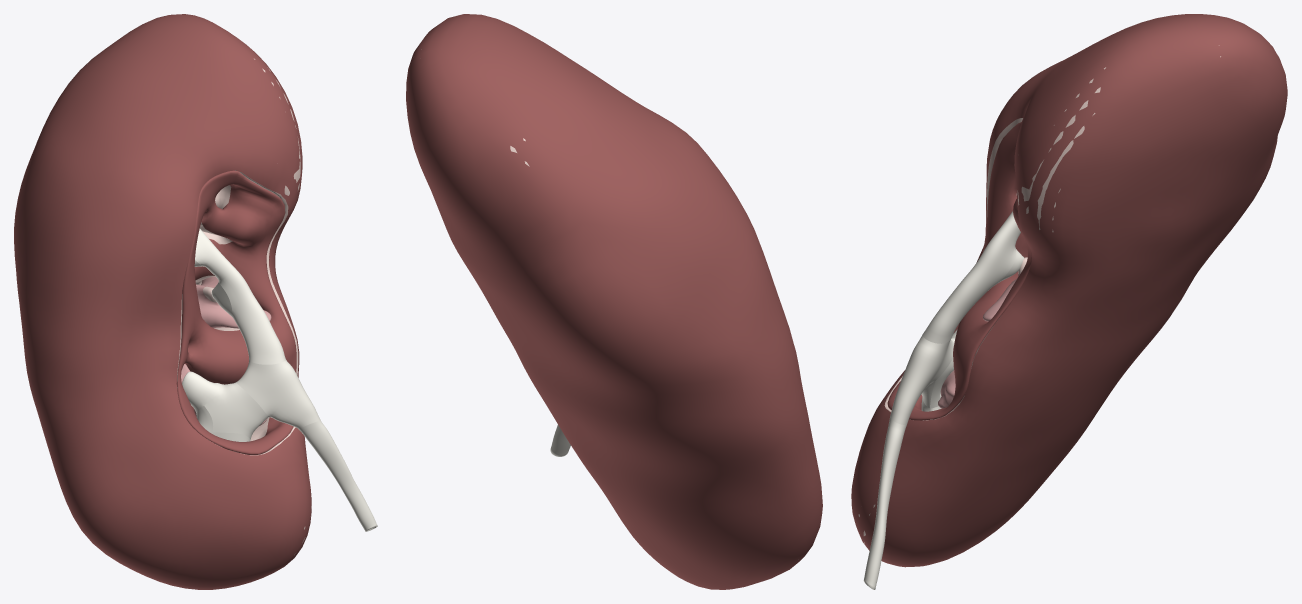
Rendered from VH_M_Kidney_Right.glb.
The picture shows the model from 3 angles, left to right: view 1: azimuth 30°, elevation 25°; view 2: azimuth 150°, elevation 25°; view 3: azimuth 270°, elevation 25°; orthographic projection. The views are drawn at different scales.
Visible parts, largest first — view 1: VHM_kidney_capsule_R, VHM_hilum_of_kidney_R, VHM_major_calyx_R_a, VHM_renal_pelvis_R, VHM_major_calyx_R_b, VHM_ureter_R, VHM_outer_cortex_of_kidney_R, VHM_renal_pyramid_f, VHM_minor_calyx_R_f, VHM_renal_column_R; view 2: VHM_kidney_capsule_R; view 3: VHM_kidney_capsule_R, VHM_hilum_of_kidney_R, VHM_major_calyx_R_a, VHM_renal_pelvis_R, VHM_ureter_R, VHM_outer_cortex_of_kidney_R.
Part boxes in pixels (x1,y1,x2,y2): VHM_kidney_capsule_R: (14,14,311,589); VHM_hilum_of_kidney_R: (177,170,296,454); VHM_major_calyx_R_a: (195,228,285,364); VHM_renal_pelvis_R: (236,360,320,429); VHM_major_calyx_R_b: (204,382,268,439); VHM_ureter_R: (299,420,377,531); VHM_outer_cortex_of_kidney_R: (87,58,311,555); VHM_renal_pyramid_f: (196,276,271,328); VHM_minor_calyx_R_f: (182,371,219,413); VHM_renal_column_R: (195,185,269,441); VHM_kidney_capsule_R: (406,14,822,589); VHM_kidney_capsule_R: (851,14,1287,567); VHM_hilum_of_kidney_R: (887,122,1031,420); VHM_major_calyx_R_a: (922,211,1020,343); VHM_renal_pelvis_R: (890,334,953,424); VHM_ureter_R: (863,416,906,589); VHM_outer_cortex_of_kidney_R: (858,45,1220,543).
Size of the model in its own units: 0.0657 by 0.1125 by 0.0764.
